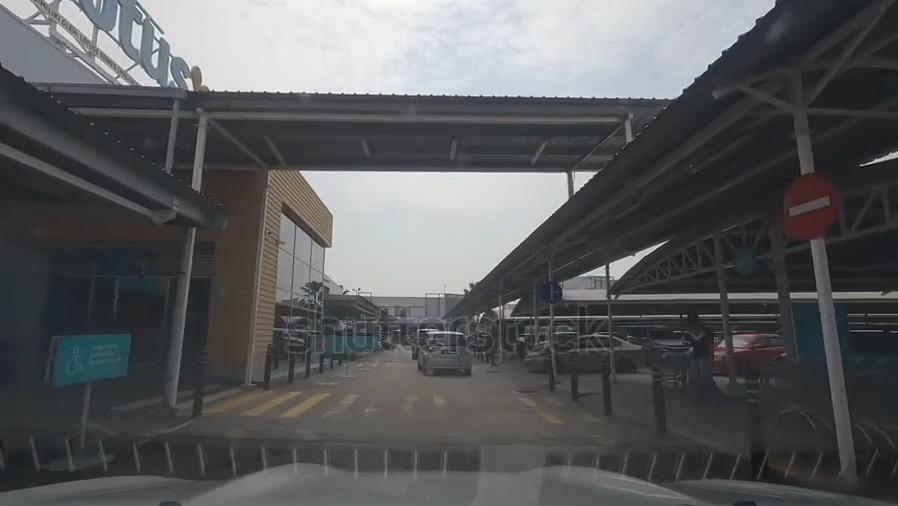car: (526, 334, 643, 375), (718, 331, 783, 367), (419, 330, 472, 371), (633, 325, 689, 359), (409, 325, 435, 355)
manhole: (514, 384, 545, 398)
pedestrian: (193, 397, 627, 420)
person: (686, 318, 715, 397)
speedbump: (174, 426, 693, 459)
